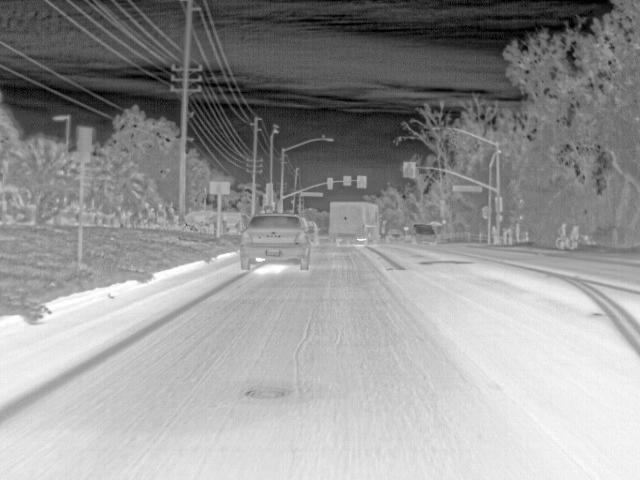car: (239, 214, 310, 271), (410, 221, 437, 245), (306, 220, 320, 243), (386, 228, 403, 244)
person: (557, 221, 568, 238), (501, 226, 509, 246), (492, 224, 499, 244), (572, 223, 581, 237), (508, 228, 514, 244)
